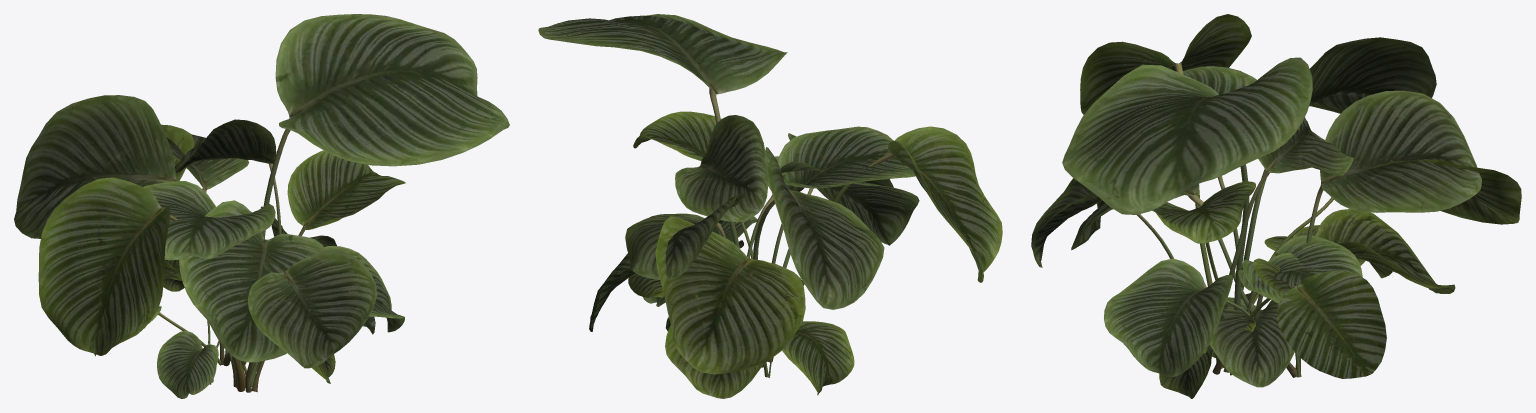
File: calathea_orbifolia_01.glb
The picture shows the model from 3 angles, left to right: view 1: azimuth 30°, elevation 25°; view 2: azimuth 150°, elevation 25°; view 3: azimuth 270°, elevation 25°; orthographic projection. The views are drawn at different scales.
Visible parts, largest first — view 1: calathea_orbifolia_01_a, calathea_orbifolia_01_b, calathea_orbifolia_01_c, calathea_orbifolia_01_d, calathea_orbifolia_01_e; view 2: calathea_orbifolia_01_a, calathea_orbifolia_01_b, calathea_orbifolia_01_c; view 3: calathea_orbifolia_01_a, calathea_orbifolia_01_b, calathea_orbifolia_01_c, calathea_orbifolia_01_d, calathea_orbifolia_01_e.
Boxes of the visible parts, x1=… form: calathea_orbifolia_01_a: x1=14, y1=14, x2=509, y2=392; calathea_orbifolia_01_b: x1=94, y1=134, x2=404, y2=366; calathea_orbifolia_01_c: x1=143, y1=150, x2=405, y2=387; calathea_orbifolia_01_d: x1=157, y1=272, x2=219, y2=398; calathea_orbifolia_01_e: x1=164, y1=259, x2=335, y2=387; calathea_orbifolia_01_a: x1=538, y1=14, x2=1002, y2=374; calathea_orbifolia_01_b: x1=625, y1=156, x2=919, y2=395; calathea_orbifolia_01_c: x1=633, y1=111, x2=915, y2=398; calathea_orbifolia_01_a: x1=1031, y1=14, x2=1521, y2=378; calathea_orbifolia_01_b: x1=1071, y1=90, x2=1481, y2=377; calathea_orbifolia_01_c: x1=1152, y1=66, x2=1455, y2=358; calathea_orbifolia_01_d: x1=1209, y1=293, x2=1294, y2=387; calathea_orbifolia_01_e: x1=1159, y1=225, x2=1392, y2=398.
Bounding box in the file's own units: 0.6006 × 0.4243 × 0.5257.
Materials: 1 (1 with a texture image).
